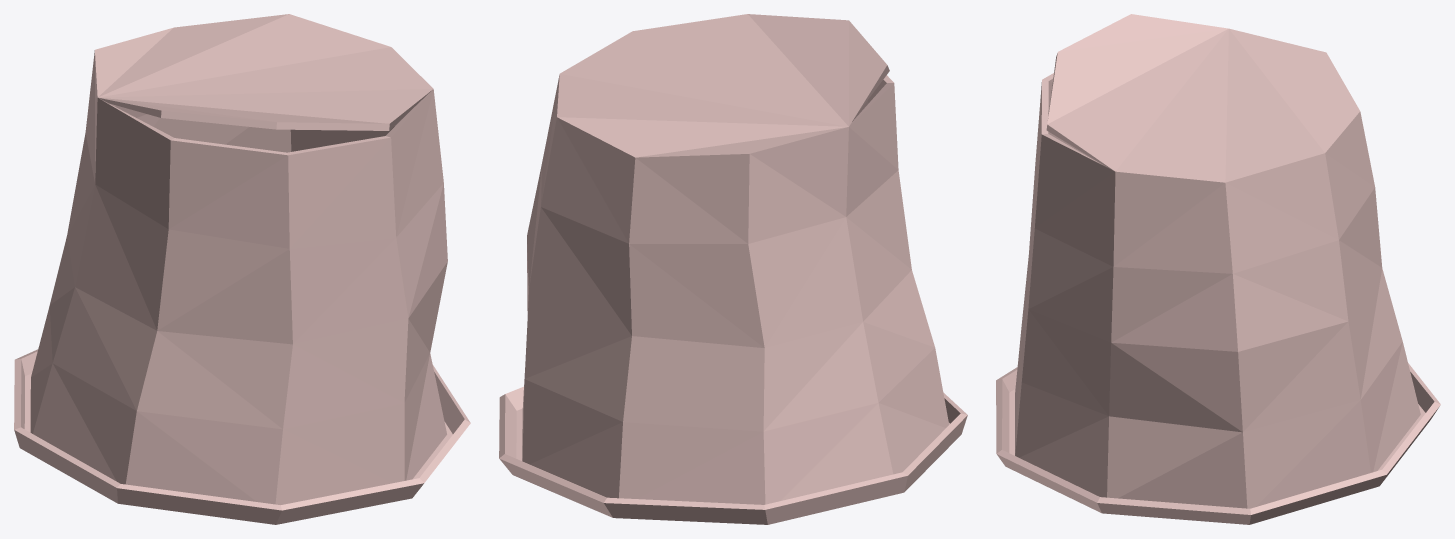
Rendered from Bucket_w_o_handle.fbx.
3 renders of one model, left to right at view 1: azimuth 30°, elevation 25°; view 2: azimuth 150°, elevation 25°; view 3: azimuth 270°, elevation 25°, orthographic. The views are drawn at different scales.
Parts seen in each view (by area): view 1: NurbsPath.001; view 2: NurbsPath.001; view 3: NurbsPath.001.
Boxes of the visible parts, bbox=[...] form: NurbsPath.001: bbox=[14, 14, 470, 524]; NurbsPath.001: bbox=[499, 14, 967, 524]; NurbsPath.001: bbox=[996, 14, 1440, 524].
Size of the model in its own units: 57.18 by 51.63 by 56.4.
